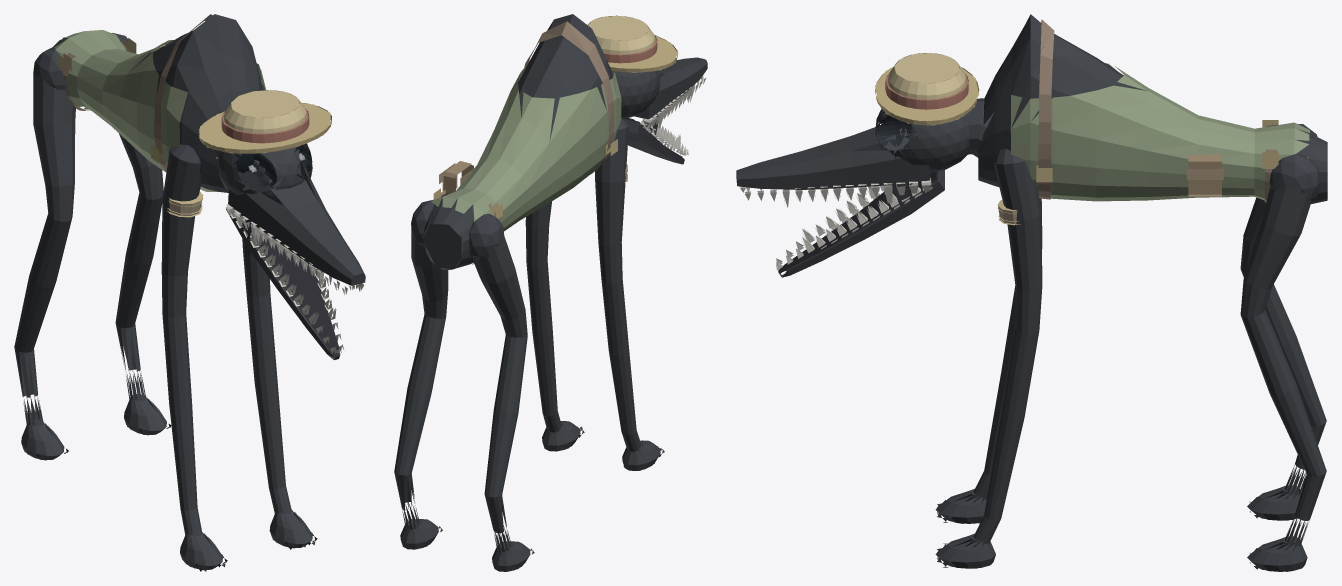
Rendered from LongmawFarmer.glb.
3 views of the same model, side by side, from view 1: azimuth 30°, elevation 25°; view 2: azimuth 150°, elevation 25°; view 3: azimuth 270°, elevation 25° (orthographic). The views are drawn at different scales.
Parts seen in each view (by area): view 1: Head, Body, LegR, ArmR, LegL, ArmL; view 2: Body, LegR, Head, ArmR, LegL, ArmL; view 3: Body, Head, LegL, ArmL, LegR, ArmR.
Boxes of the visible parts, left/top/right/bottom form: Head: left=198, top=90, right=365, bottom=359; Body: left=52, top=14, right=265, bottom=192; LegR: left=14, top=47, right=75, bottom=460; ArmR: left=161, top=144, right=227, bottom=571; LegL: left=112, top=33, right=171, bottom=435; ArmL: left=242, top=239, right=317, bottom=549; Body: left=423, top=14, right=621, bottom=269; LegR: left=469, top=213, right=534, bottom=571; Head: left=588, top=15, right=707, bottom=164; ArmR: left=595, top=118, right=664, bottom=470; LegL: left=394, top=199, right=448, bottom=549; ArmL: left=525, top=201, right=584, bottom=451; Body: left=978, top=14, right=1327, bottom=203; Head: left=736, top=53, right=994, bottom=277; LegL: left=1240, top=154, right=1326, bottom=571; ArmL: left=935, top=148, right=1042, bottom=568; LegR: left=1240, top=124, right=1326, bottom=520; ArmR: left=935, top=198, right=1042, bottom=523.
Bounding box in the file's own units: 1.9 × 6.89 × 7.03.
